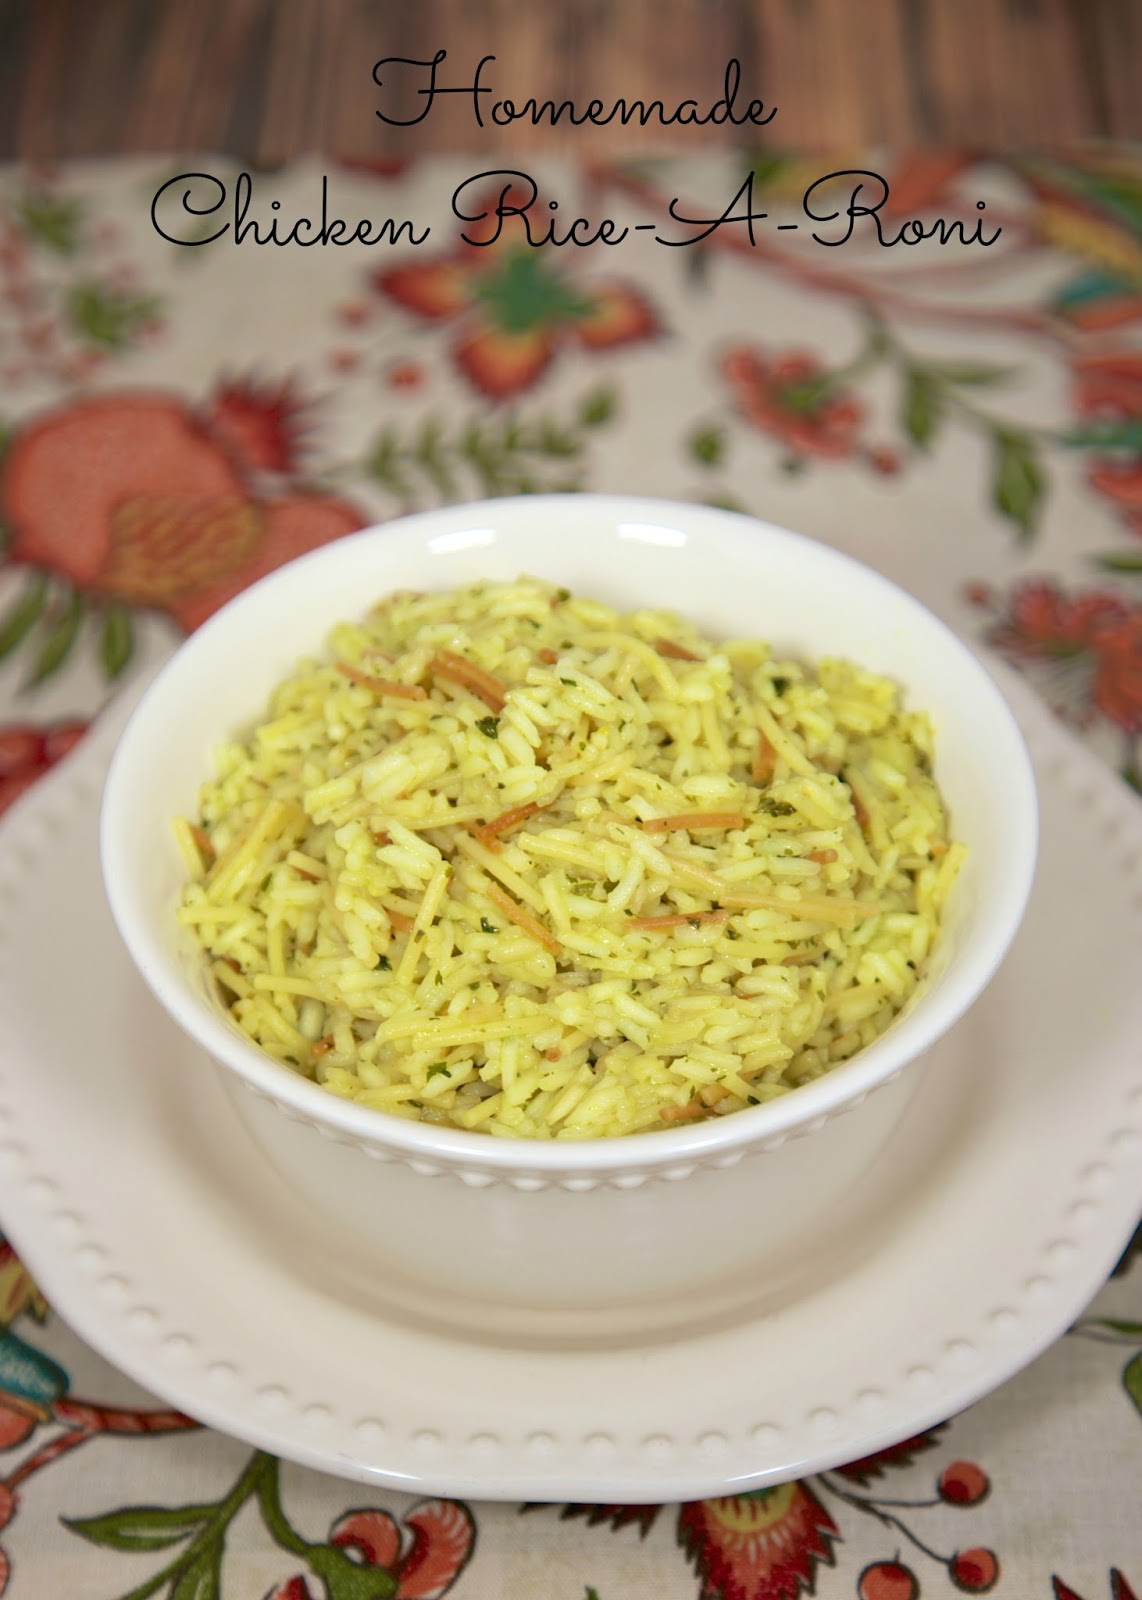plain rice: (211, 604, 923, 1119)
